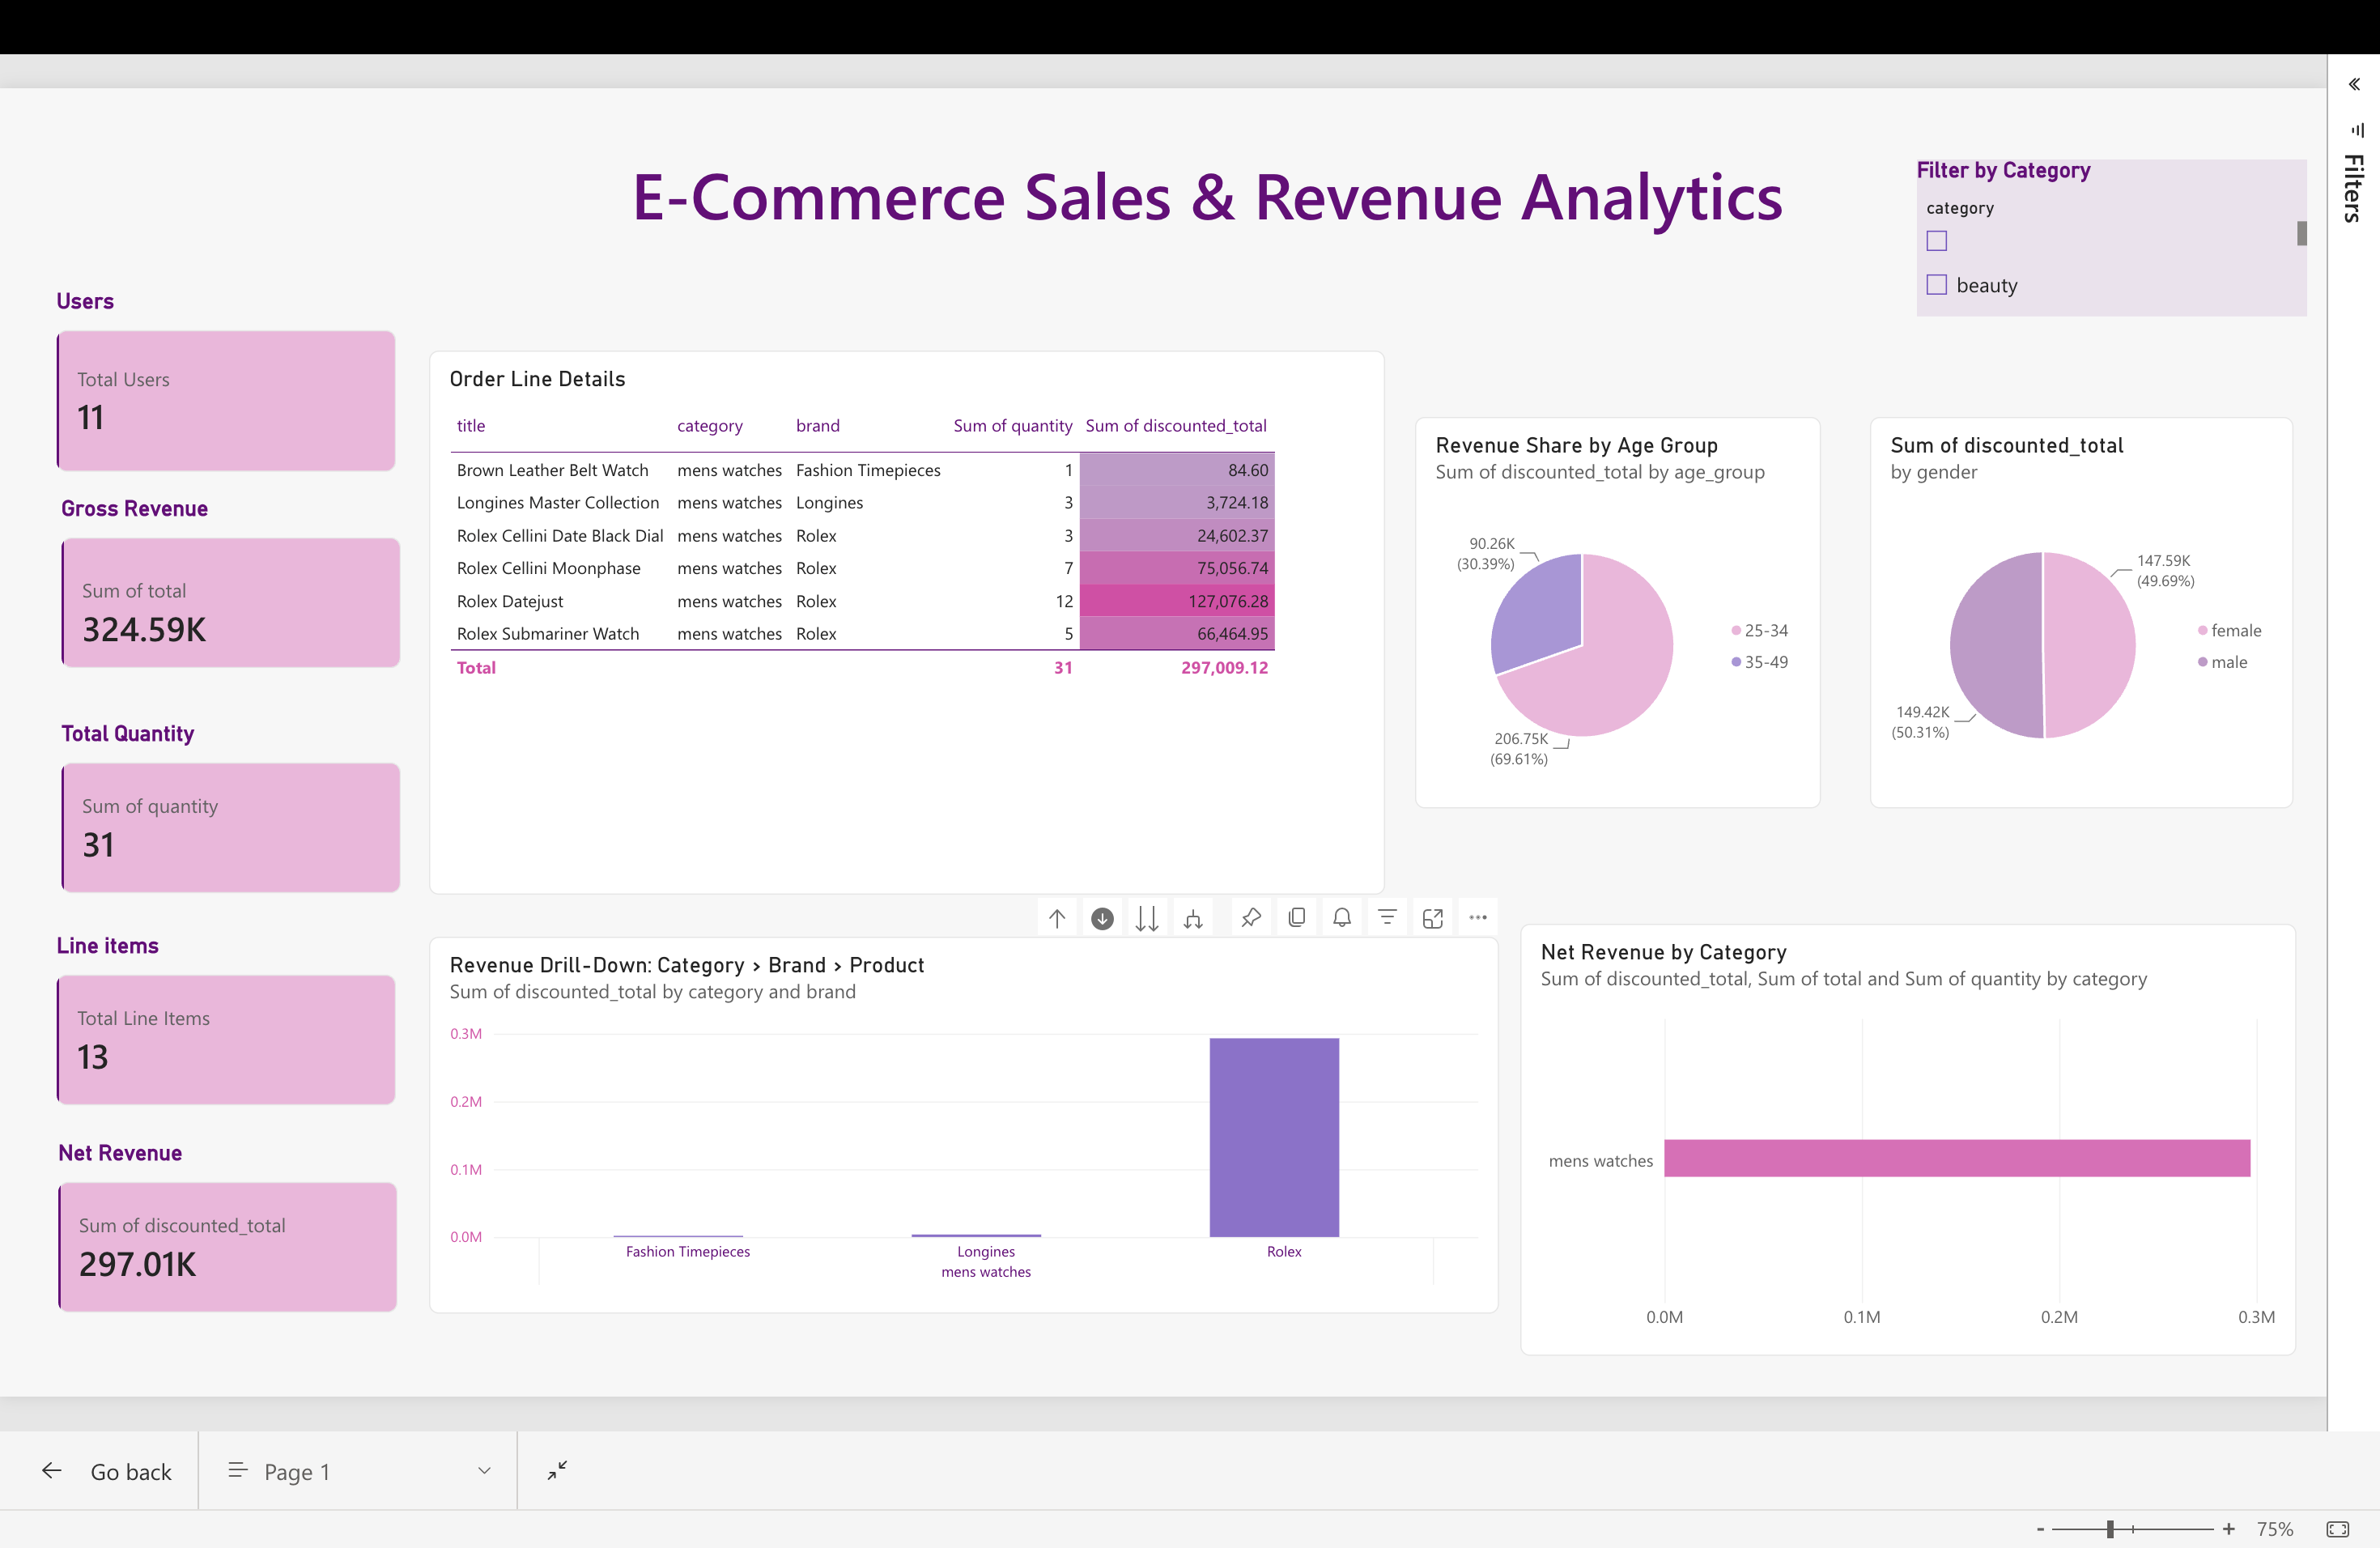

Layout of this report page (visuals, bound fields, positions):
{"tool":"powerbi","page":{"name":"Page 1","canvas":[1920,1080],"ordinal":0},"visuals":[{"type":"cardVisual","title":"Net Revenue","fields":{"Data":["Sum(powerbi_dashboard_data.discounted_total)"]},"box":[47.7,869.4,280.3,141.1],"z":0},{"type":"cardVisual","title":"Gross Revenue","fields":{"Data":["Sum(powerbi_dashboard_data.total)"]},"box":[50.4,337.5,280.3,141.1],"z":1000},{"type":"cardVisual","title":"Total Quantity","fields":{"Data":["Sum(powerbi_dashboard_data.quantity)"]},"box":[50.4,523.6,280.3,141.1],"z":2000},{"type":"cardVisual","title":"Line items","fields":{"Data":["powerbi_dashboard_data.Total Line Items"]},"box":[46.5,698.2,280.3,141.1],"z":3000},{"type":"slicer","title":"Filter by Category","fields":{"Values":["powerbi_dashboard_data.category"]},"box":[1582.5,58.5,322.2,129.7],"z":4000},{"type":"clusteredBarChart","title":"Net Revenue by Category","fields":{"Category":["powerbi_dashboard_data.category"],"Y":["Sum(powerbi_dashboard_data.discounted_total)"]},"box":[1254.9,689.4,640.6,356.5],"z":5000},{"type":"clusteredColumnChart","title":"Revenue Drill-Down: Category > Brand > Product","fields":{"Category":["powerbi_dashboard_data.category","powerbi_dashboard_data.brand","powerbi_dashboard_data.title"],"Y":["Sum(powerbi_dashboard_data.discounted_total)"]},"box":[354.6,699.7,882.8,310.8],"z":6000},{"type":"pieChart","title":"Revenue Share by Age Group","fields":{"Category":["powerbi_dashboard_data.age_group"],"Y":["Sum(powerbi_dashboard_data.discounted_total)"]},"box":[1167.5,271.9,335,322.8],"z":7000},{"type":"tableEx","title":"Order Line Details","fields":{"Values":["powerbi_dashboard_data.title","powerbi_dashboard_data.category","powerbi_dashboard_data.brand","Sum(powerbi_dashboard_data.quantity)","Sum(powerbi_dashboard_data.discounted_total)"]},"box":[354.4,216,788.9,449.1],"z":8000},{"type":"textbox","box":[440.4,51.2,1105.6,144.4],"z":9000},{"type":"cardVisual","title":"Users","fields":{"Data":["powerbi_dashboard_data.Total Users"]},"box":[46.1,167.5,280,150],"z":10000},{"type":"pieChart","fields":{"Category":["powerbi_dashboard_data.gender"],"Y":["Sum(powerbi_dashboard_data.discounted_total)"]},"box":[1543.8,271.9,349.5,322.8],"z":11000}]}

Visuals, with their boxes on the page's 1920x1080 design canvas (x1, y1, x2, y2). These are canvas units, not pixel positions in the 2380x1548 screenshot, which may show the page scaled, cropped or inside an application window:
"Net Revenue" cardVisual: select_region(48, 869, 328, 1010)
"Gross Revenue" cardVisual: select_region(50, 338, 331, 479)
"Total Quantity" cardVisual: select_region(50, 524, 331, 665)
"Line items" cardVisual: select_region(46, 698, 327, 839)
"Filter by Category" slicer: select_region(1582, 58, 1905, 188)
"Net Revenue by Category" clusteredBarChart: select_region(1255, 689, 1896, 1046)
"Revenue Drill-Down: Category > Brand > Product" clusteredColumnChart: select_region(355, 700, 1237, 1010)
"Revenue Share by Age Group" pieChart: select_region(1168, 272, 1502, 595)
"Order Line Details" tableEx: select_region(354, 216, 1143, 665)
textbox: select_region(440, 51, 1546, 196)
"Users" cardVisual: select_region(46, 168, 326, 318)
pieChart - powerbi_dashboard_data.gender x Sum(powerbi_dashboard_data.discounted_total): select_region(1544, 272, 1893, 595)
